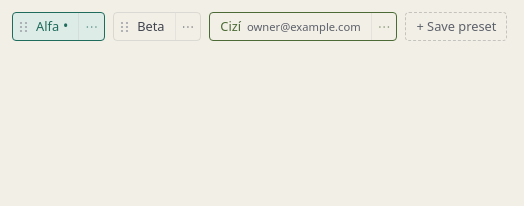
Test: <SavedSetBar> dirty › saves in one click, with no dialog: the name, colour and checkbox answer stay the item's own
Click the 1st button "⋯" at (91, 27), box top-left (78, 13), bottom-right (104, 40)
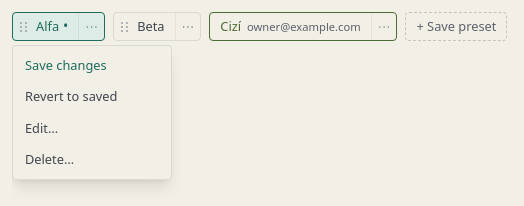
Click the menu item "Save changes" at (92, 66), box top-left (13, 50), bottom-right (171, 81)
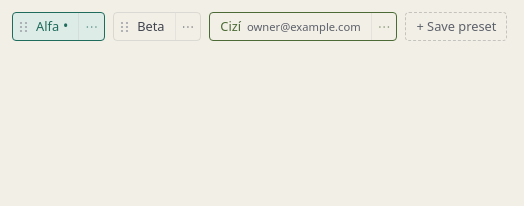
Now the menu is gone
